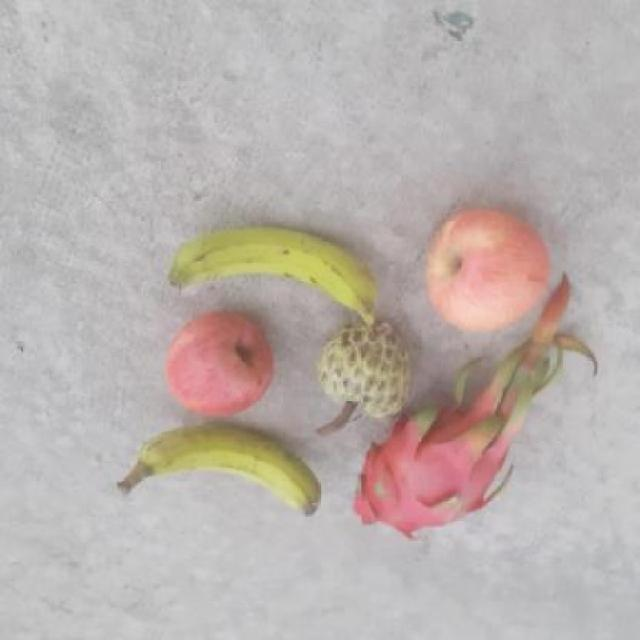apple: (418, 206, 556, 331), (168, 310, 277, 424)
banana: (160, 215, 391, 332), (98, 424, 332, 518)
dragon fruit: (348, 414, 510, 538)
sugar apple: (303, 322, 417, 422)
